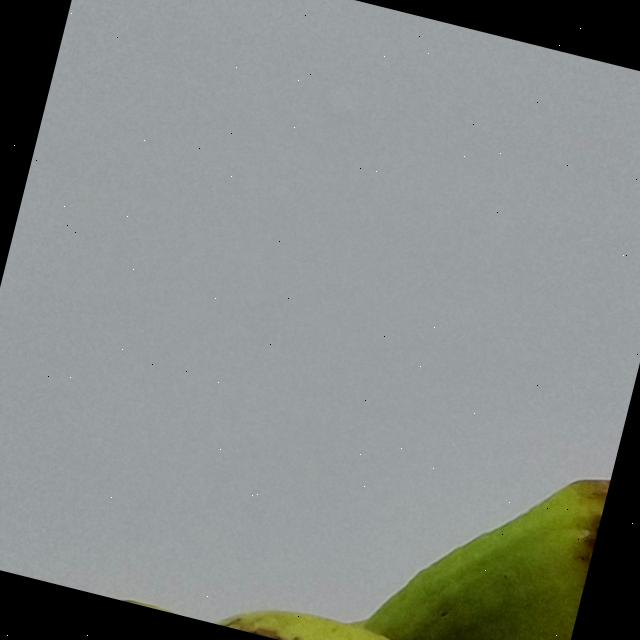mangosteen: (0, 272, 623, 640)
